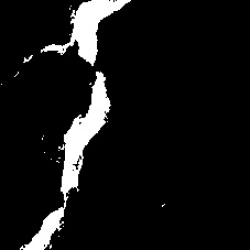crack: (19, 2, 131, 247)
